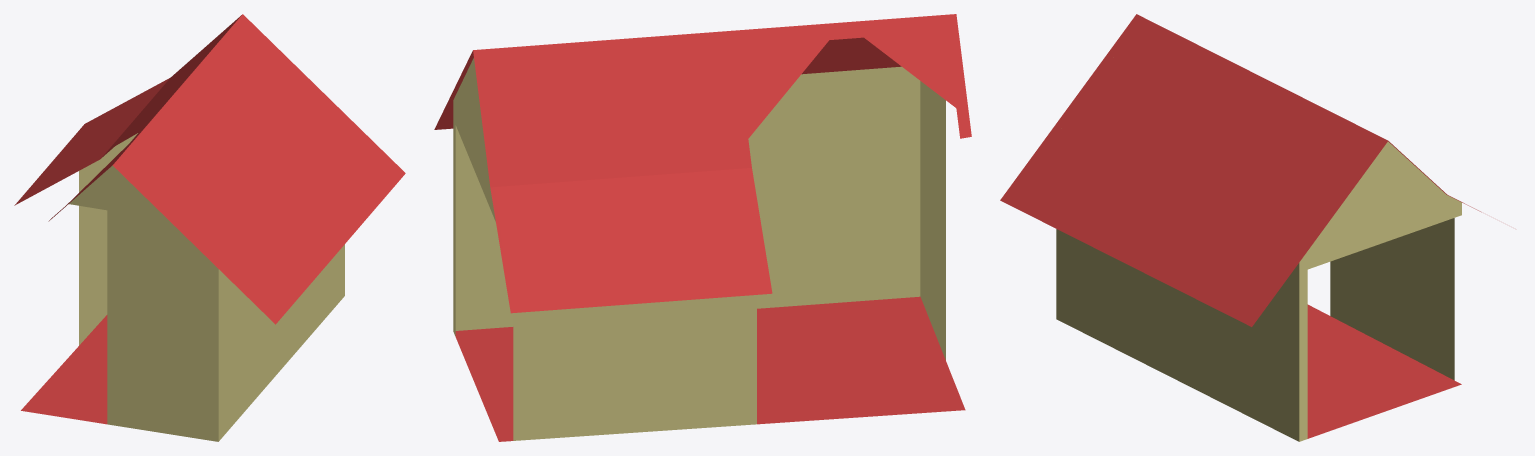
3 renders of one model, left to right at view 1: azimuth 30°, elevation 25°; view 2: azimuth 150°, elevation 25°; view 3: azimuth 270°, elevation 25°, orthographic. The views are drawn at different scales.
Size of the model in its own units: 24.77 by 27.25 by 15.68.
